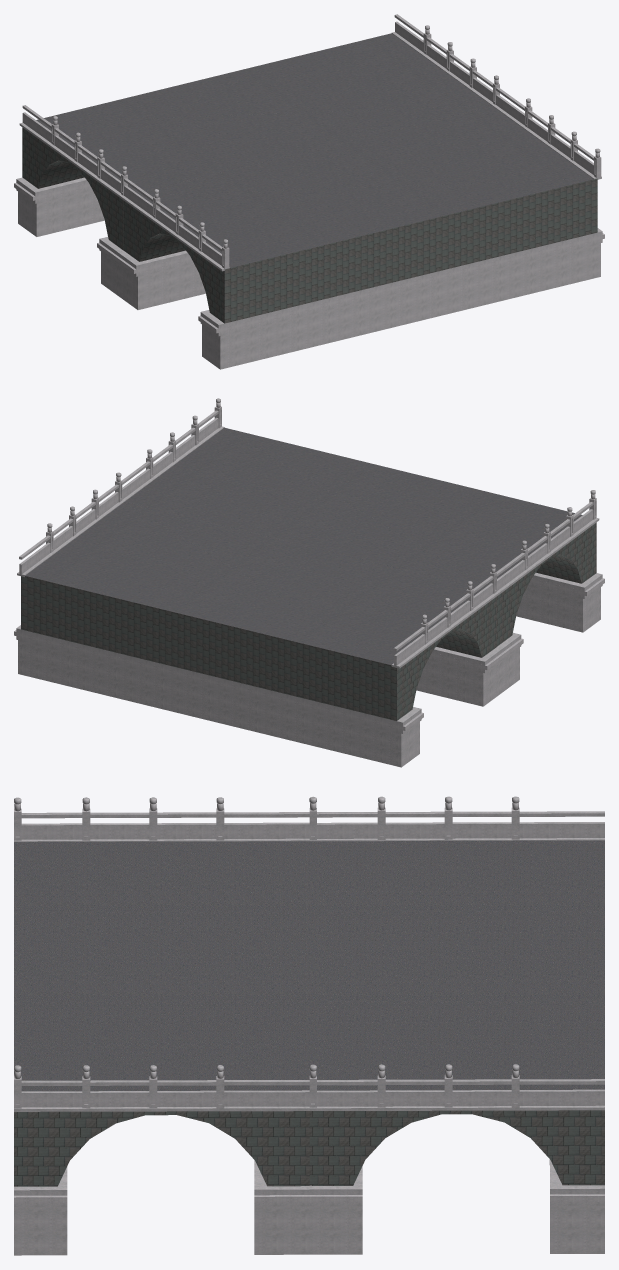
The model's file is qiao8.FBX.
3 renders of one model, top to bottom at view 1: azimuth 30°, elevation 25°; view 2: azimuth 150°, elevation 25°; view 3: azimuth 270°, elevation 25°, orthographic. The views are drawn at different scales.
Visible parts, largest first — view 1: qiao8; view 2: qiao8; view 3: qiao8.
Part boxes in pixels (<box>): qiao8: <box>14,14,604,369</box>; qiao8: <box>14,398,604,767</box>; qiao8: <box>14,796,604,1255</box>.
Size of the model in its own units: 2478 by 771 by 2201.
3 materials, 3 textured.
